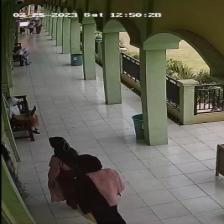HijabSyar-i: (47, 138, 84, 166)
Non Syar-i: (72, 155, 107, 175)
